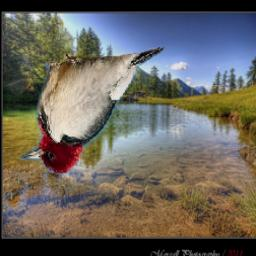Woodpecker: (20, 47, 166, 173)
